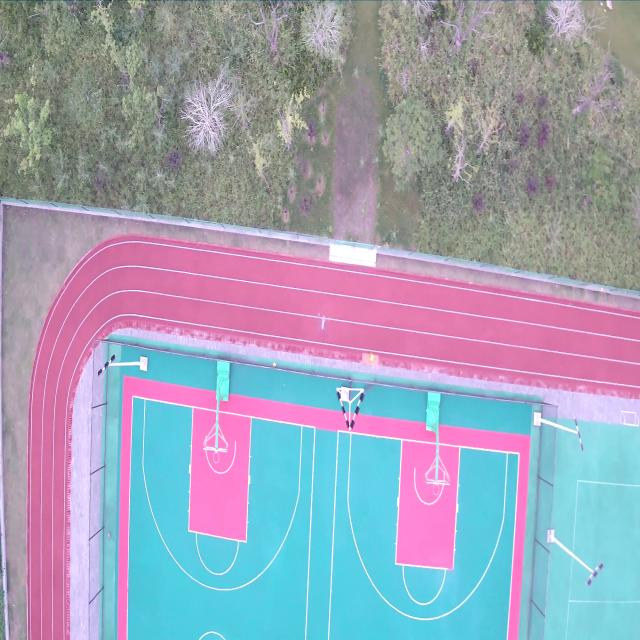UAV: (316, 312, 331, 334)
